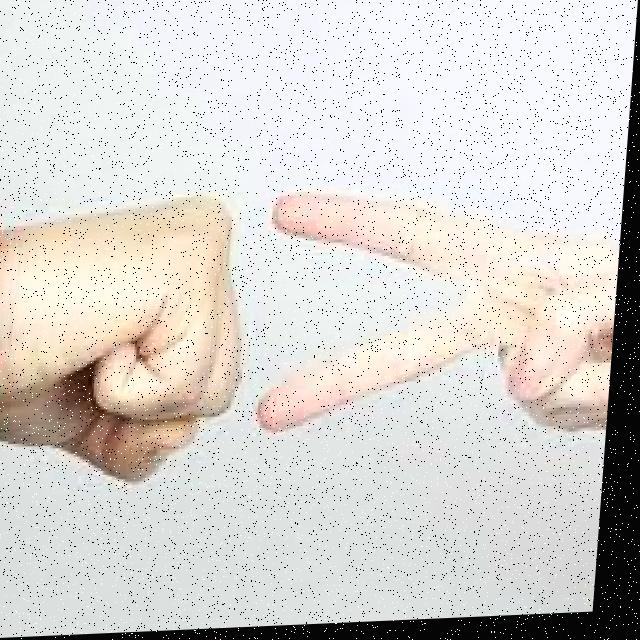rock: (0, 157, 267, 533)
scirssors: (254, 162, 629, 495)
